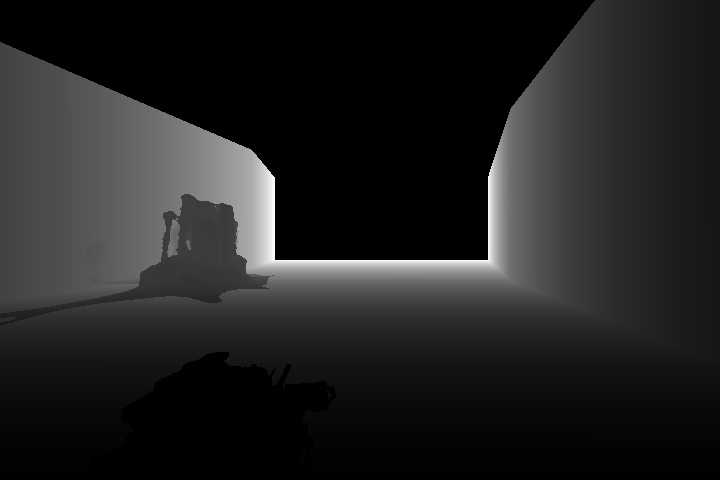green rock: (120, 192, 275, 305)
